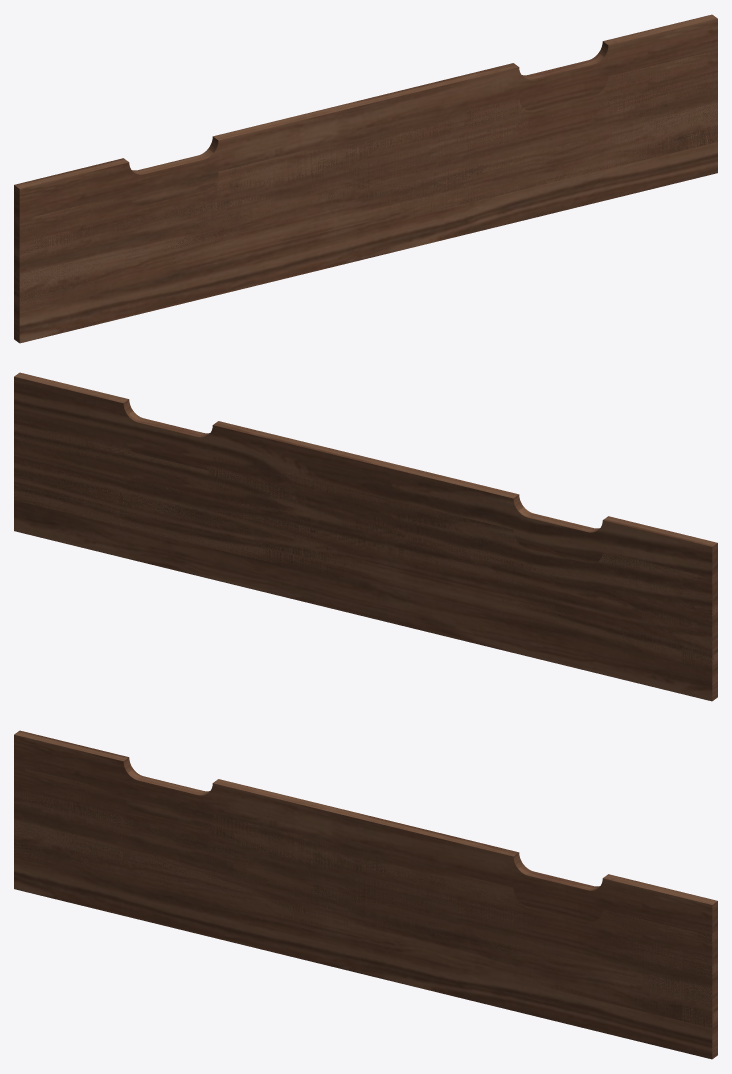
Rendered from drawerboard.gltf.
3 views of the same model, one above another, from view 1: azimuth 30°, elevation 25°; view 2: azimuth 150°, elevation 25°; view 3: azimuth 330°, elevation 25° (orthographic).
Visible parts, largest first — view 1: drawerPanele (×2), drawerPaneld (×2), drawerPanelc (×2), drawerPanelb (×2); view 2: drawerPanele (×2), drawerPaneld (×2), drawerPanelb (×2), drawerPanelc (×2), drawerPanela; view 3: drawerPanele (×2), drawerPaneld (×2), drawerPanelb (×2), drawerPanelc (×2).
Part boxes in pixels (x1,y1,x2,y2): drawerPanele (×2): (14, 14, 717, 343); drawerPaneld (×2): (30, 21, 702, 338); drawerPanelc (×2): (48, 23, 688, 335); drawerPanelb (×2): (61, 26, 672, 332); drawerPanele (×2): (14, 372, 717, 701); drawerPaneld (×2): (29, 379, 702, 697); drawerPanelb (×2): (58, 384, 670, 676); drawerPanelc (×2): (43, 382, 682, 693); drawerPanela: (73, 426, 647, 642); drawerPanele (×2): (14, 730, 717, 1059); drawerPaneld (×2): (29, 737, 702, 1055); drawerPanelb (×2): (58, 741, 670, 1034); drawerPanelc (×2): (43, 739, 682, 1051).
Bounding box in the file's own units: 1.79 × 0.3785 × 0.0254.
Materials: 1 (1 with a texture image).
